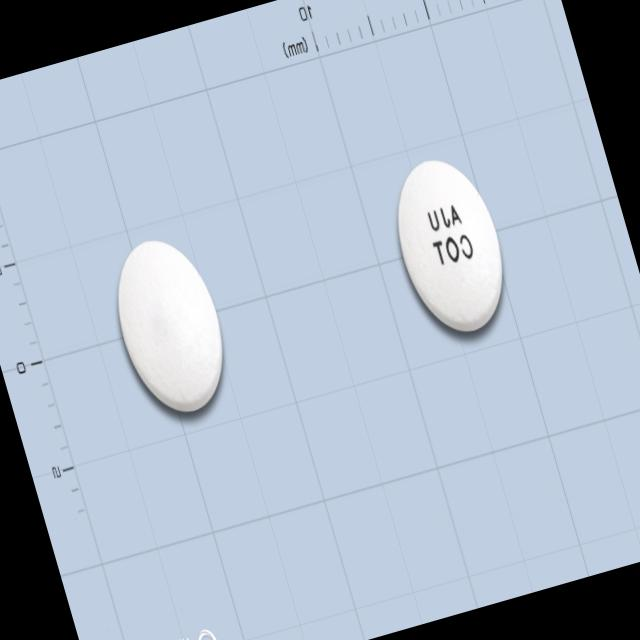Croxacin: (378, 146, 521, 344)
